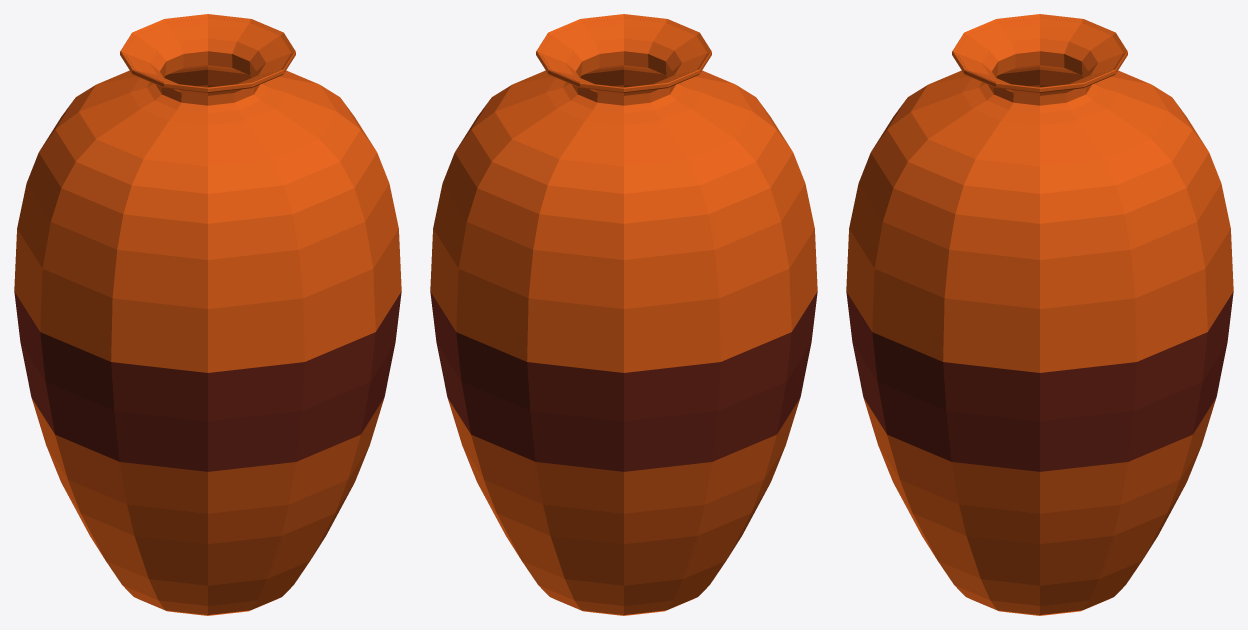
The model's file is CtrlAlt_Vase_2.fbx.
3 renders of one model, left to right at view 1: azimuth 30°, elevation 25°; view 2: azimuth 150°, elevation 25°; view 3: azimuth 270°, elevation 25°, orthographic.
Parts seen in each view (by area): view 1: Cube; view 2: Cube; view 3: Cube.
Part boxes in pixels (x1,y1,x2,y2): Cube: [14, 14, 401, 615]; Cube: [430, 14, 817, 615]; Cube: [846, 14, 1233, 615].
Size of the model in its own units: 226 by 348 by 226.
